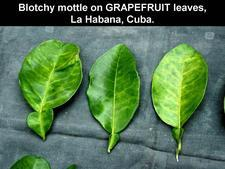Citrus Greening: (19, 38, 81, 138), (152, 42, 209, 143), (89, 41, 139, 148)
